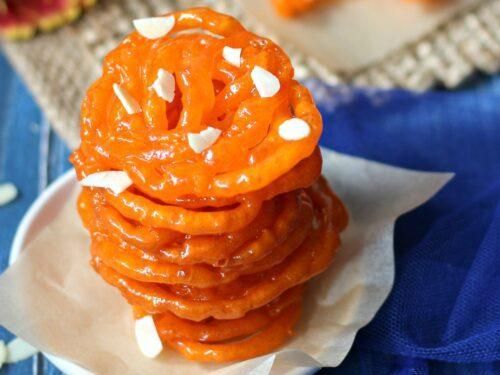jalebi: (70, 12, 339, 371)
